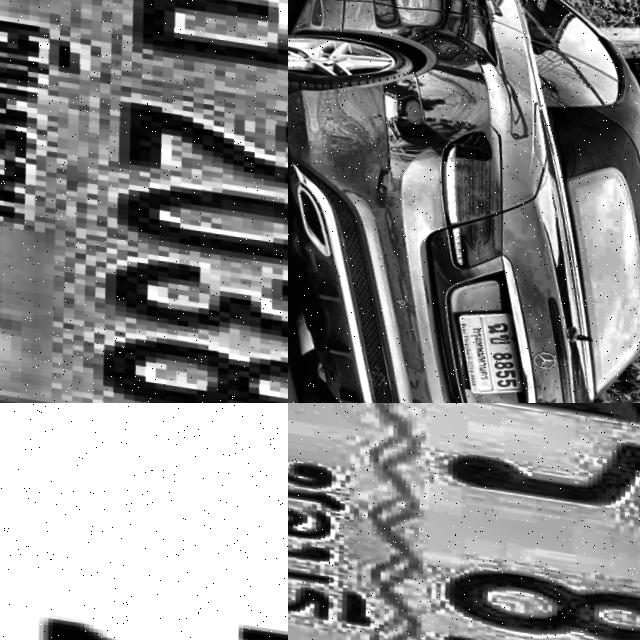license-plate: (0, 0, 288, 403), (288, 403, 640, 640), (0, 403, 288, 640), (442, 301, 524, 395)
